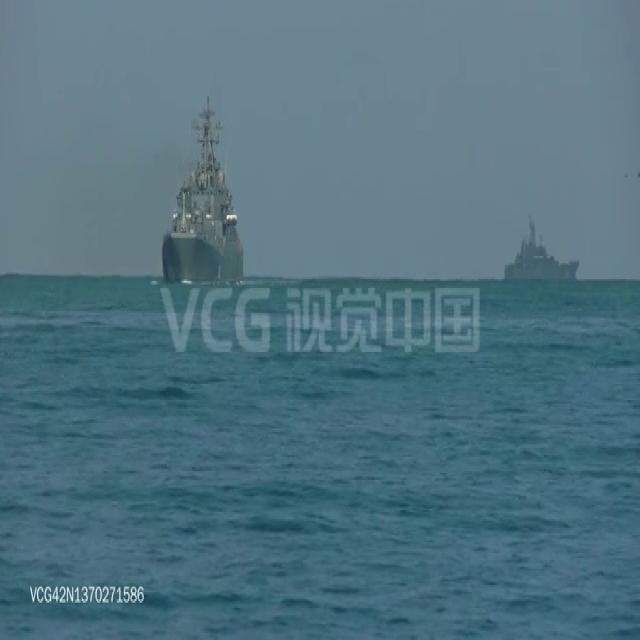navalvessels: (161, 98, 249, 286), (502, 209, 578, 284)
